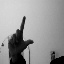l: (6, 15, 35, 56)
